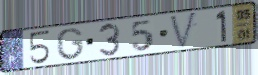1: (214, 9, 228, 44)
3: (98, 21, 122, 58)
5: (130, 18, 156, 53), (28, 29, 52, 66)
G: (55, 26, 86, 61)
V: (168, 10, 199, 50)
